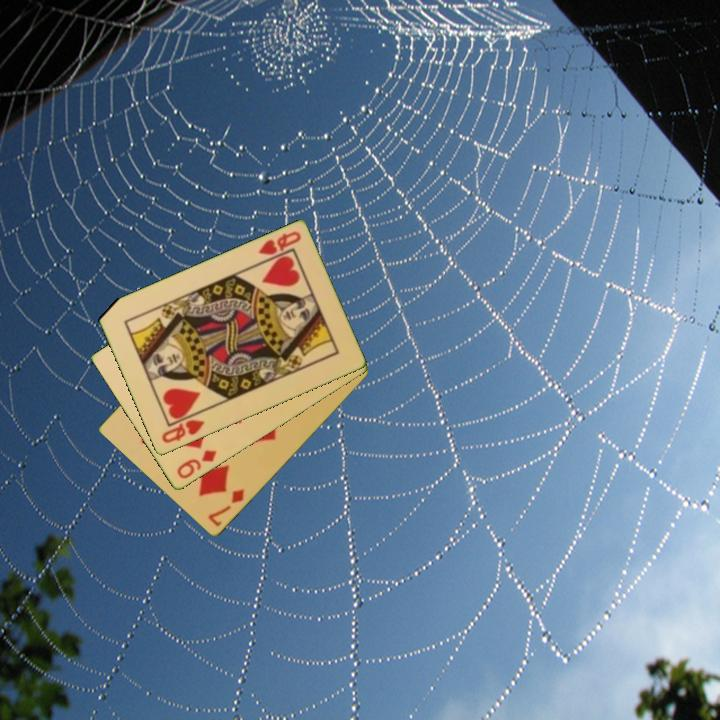7d: (204, 485, 247, 530)
9d: (173, 447, 220, 482)
Qh: (158, 416, 208, 447), (255, 228, 304, 259)
